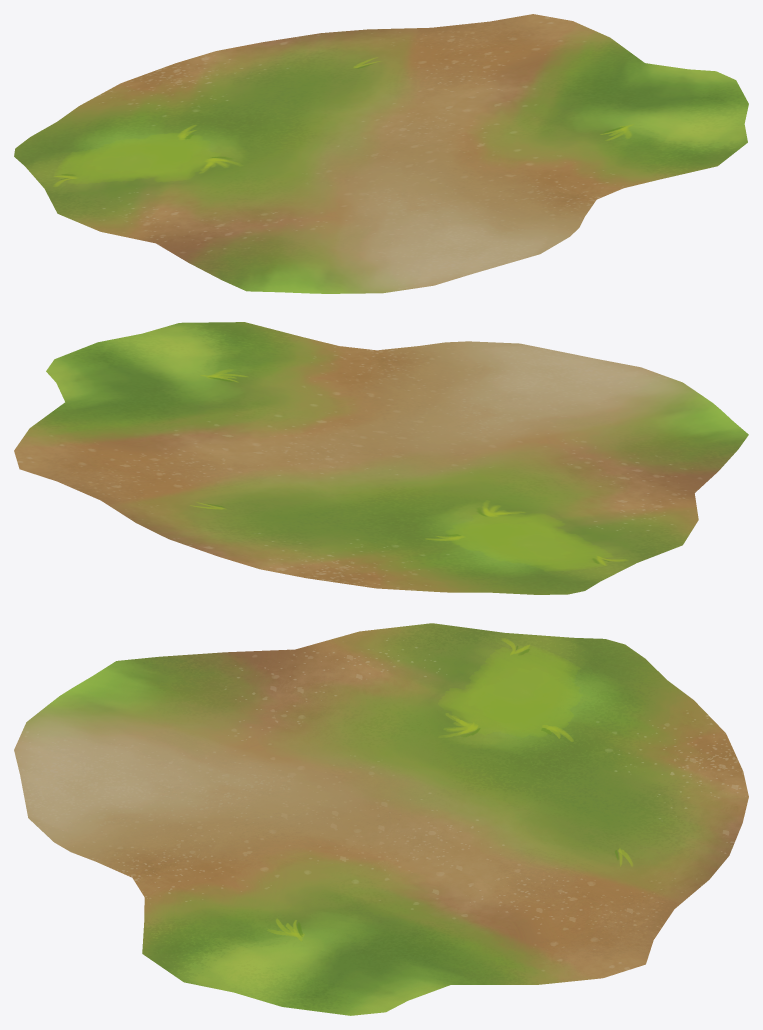
File: Ground.fbx
3 views of the same model, one above another, from view 1: azimuth 30°, elevation 25°; view 2: azimuth 150°, elevation 25°; view 3: azimuth 270°, elevation 25° (orthographic). The views are drawn at different scales.
Parts seen in each view (by area): view 1: Peace_Ground; view 2: Peace_Ground; view 3: Peace_Ground.
Part boxes in pixels (box(x1,y1,x2,y2)): Peace_Ground: box(14, 14, 748, 293); Peace_Ground: box(14, 322, 748, 594); Peace_Ground: box(14, 623, 748, 1015).
Bounding box in the file's own units: 29.13 × 2.34e-05 × 23.04.
